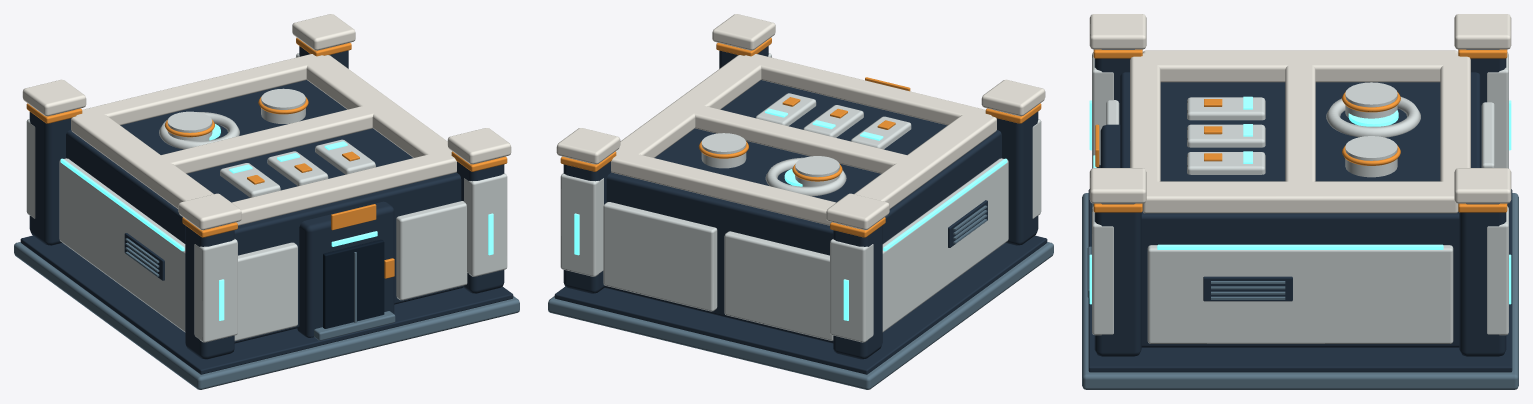
File: service-factory.glb
The picture shows the model from 3 angles, left to right: view 1: azimuth 30°, elevation 25°; view 2: azimuth 150°, elevation 25°; view 3: azimuth 270°, elevation 25°; orthographic projection. The views are drawn at different scales.
Visible parts, largest first — view 1: inner-volume, foundation-inlay, side-wall--1, foundation-4-by-4, front-panel-1, roof-cross-1.42, roof-cross-0, roof-cross--1.42, front-panel--1, door-frame, roof-rail-1, roof-rail--1 (+22 smaller); view 2: inner-volume, foundation-inlay, rear-panel-1, side-wall--1, rear-panel--1, foundation-4-by-4, roof-cross--1.42, roof-cross-1.42, roof-cross-0, roof-rail-1, roof-rail--1, corner-shell-1.67--1.67 (+18 smaller); view 3: inner-volume, side-wall-1, foundation-inlay, foundation-4-by-4, roof-rail-1, roof-rail--1, corner-1.67--1.67, corner-1.67-1.67, roof-cross-0, roof-cross-1.42, roof-cross--1.42, corner-shell-1.67--1.67 (+26 smaller).
Part boxes in pixels (left/top/right/bottom): inner-volume: left=66, top=80, right=462, bottom=343; foundation-inlay: left=20, top=235, right=513, bottom=374; side-wall--1: left=59, top=158, right=185, bottom=332; foundation-4-by-4: left=14, top=242, right=519, bottom=389; front-panel-1: left=396, top=201, right=467, bottom=300; roof-cross-1.42: left=232, top=153, right=456, bottom=225; roof-cross-0: left=141, top=101, right=393, bottom=173; roof-cross--1.42: left=76, top=54, right=327, bottom=125; front-panel--1: left=234, top=242, right=297, bottom=341; door-frame: left=297, top=201, right=394, bottom=337; roof-rail-1: left=304, top=55, right=451, bottom=157; roof-rail--1: left=71, top=111, right=213, bottom=208; inner-volume: left=605, top=80, right=1001, bottom=343; foundation-inlay: left=554, top=235, right=1047, bottom=374; rear-panel-1: left=603, top=202, right=717, bottom=311; side-wall--1: left=882, top=158, right=1008, bottom=332; rear-panel--1: left=724, top=231, right=833, bottom=340; foundation-4-by-4: left=548, top=242, right=1053, bottom=389; roof-cross--1.42: left=611, top=153, right=835, bottom=225; roof-cross-1.42: left=740, top=54, right=991, bottom=125; roof-cross-0: left=674, top=101, right=925, bottom=173; roof-rail-1: left=616, top=55, right=764, bottom=157; roof-rail--1: left=854, top=111, right=996, bottom=208; corner-shell-1.67--1.67: left=560, top=173, right=603, bottom=276; inner-volume: left=1120, top=72, right=1480, bottom=347; side-wall-1: left=1147, top=245, right=1453, bottom=343; foundation-inlay: left=1088, top=189, right=1512, bottom=372; foundation-4-by-4: left=1082, top=193, right=1518, bottom=389; roof-rail-1: left=1142, top=181, right=1458, bottom=213; roof-rail--1: left=1143, top=50, right=1457, bottom=82; corner-1.67--1.67: left=1459, top=203, right=1506, bottom=356; corner-1.67-1.67: left=1094, top=203, right=1141, bottom=356; roof-cross-0: left=1285, top=53, right=1315, bottom=189; roof-cross-1.42: left=1130, top=53, right=1160, bottom=187; roof-cross--1.42: left=1440, top=53, right=1470, bottom=186; corner-shell-1.67--1.67: left=1487, top=206, right=1508, bottom=335.
Size of the model in its own units: 4 by 2 by 4.
